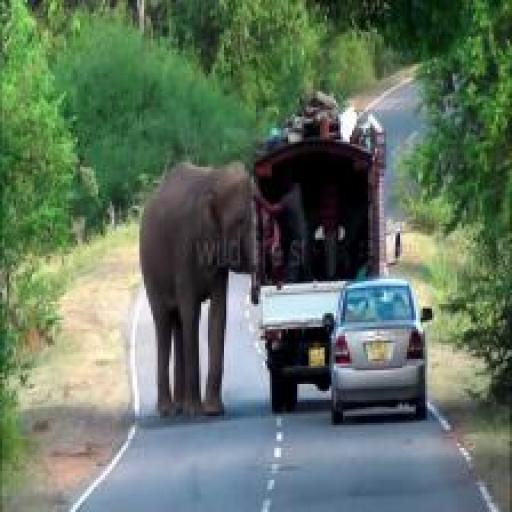Elephant: (126, 146, 275, 422)
